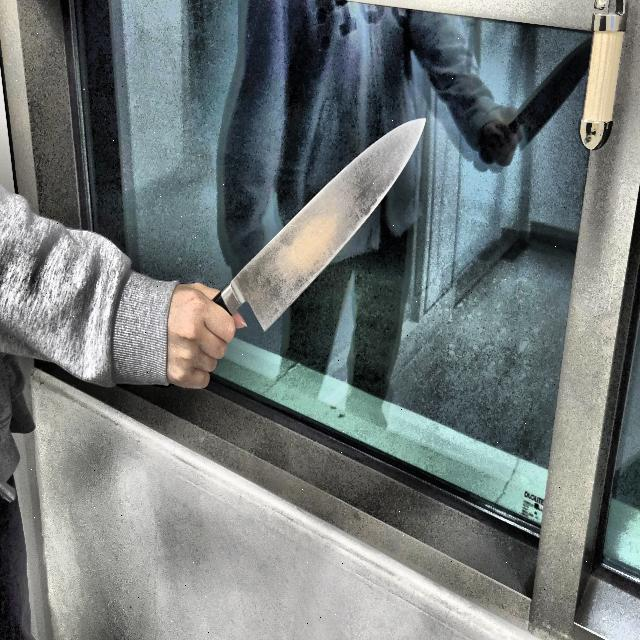knife: (190, 117, 428, 375)
